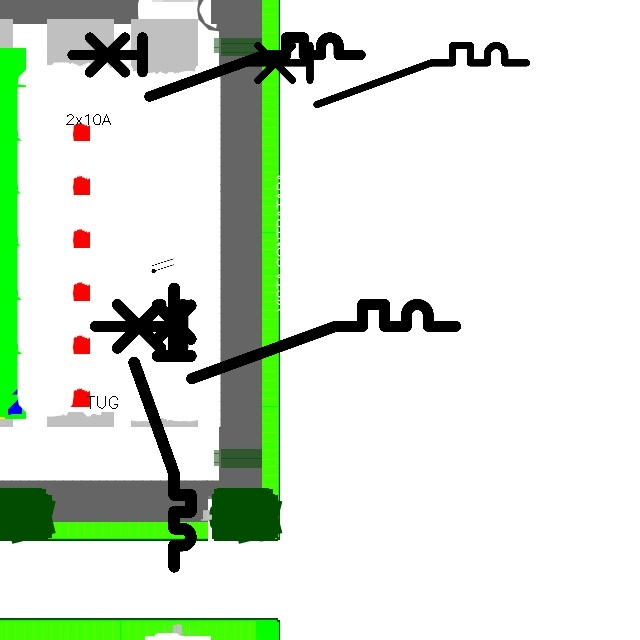interruptor_termomagnetico: (86, 295, 465, 388), (65, 30, 368, 104), (233, 38, 534, 111), (127, 281, 198, 574)
